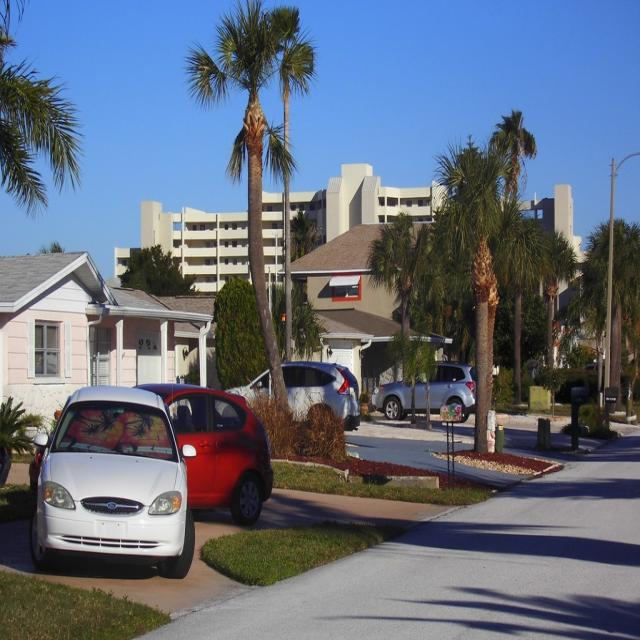car: (31, 387, 194, 576)
